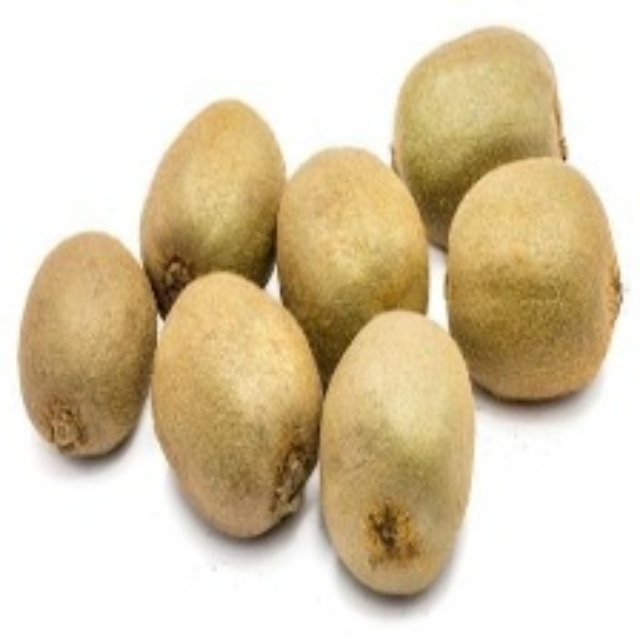kiwi: (153, 270, 316, 541), (328, 314, 469, 602), (381, 25, 571, 224), (457, 164, 616, 397), (135, 85, 278, 305), (289, 144, 428, 354), (19, 225, 142, 454)
